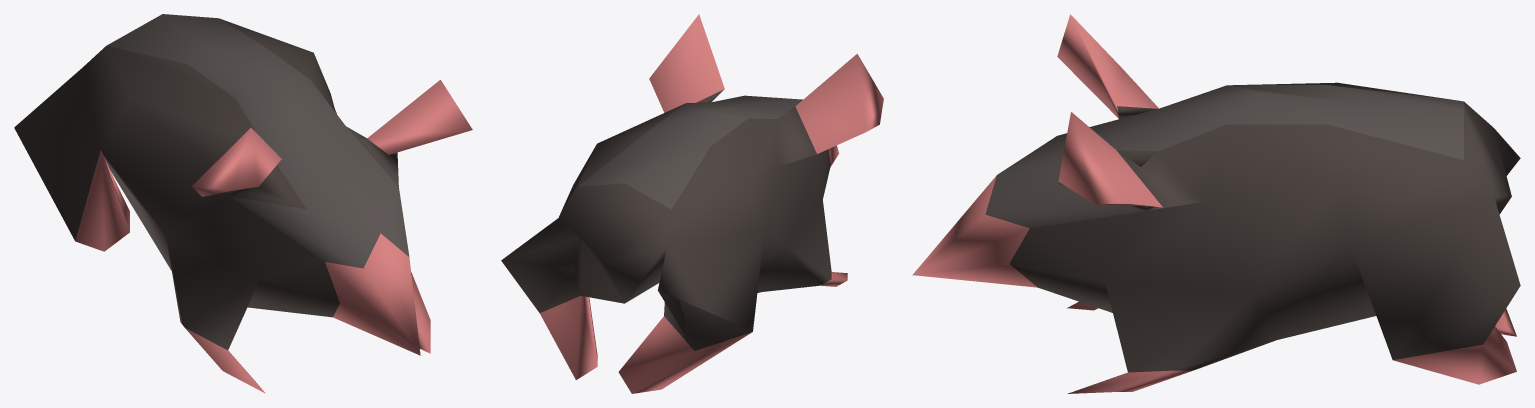
Rendered from RatBase_Export.fbx.
3 renders of one model, left to right at view 1: azimuth 30°, elevation 25°; view 2: azimuth 150°, elevation 25°; view 3: azimuth 270°, elevation 25°, orthographic. The views are drawn at different scales.
Visible parts, largest first — view 1: RatBase; view 2: RatBase; view 3: RatBase.
Boxes of the visible parts, x1=… form: RatBase: x1=14, y1=14, x2=472, y2=393; RatBase: x1=501, y1=14, x2=883, y2=393; RatBase: x1=912, y1=14, x2=1520, y2=393.
Size of the model in its own units: 1.41 by 1.4 by 2.61.
